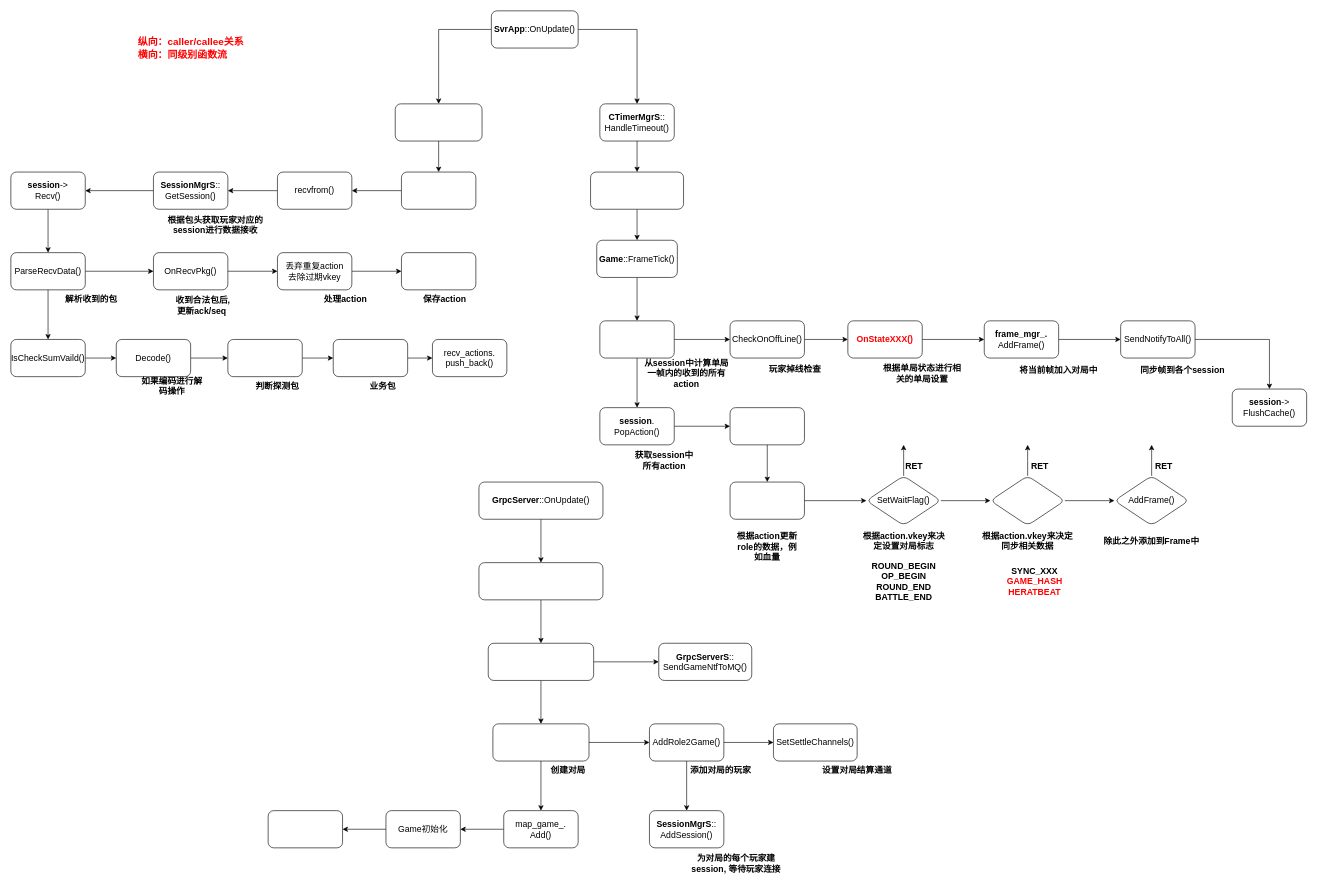
Some shapes in this 1318 by 890 pixel diagram are drawn without their labels. The shapes that lost their labels are listed below. From the top down, each one's centre as x and y in pixels, then its label:
(x=438, y=122): CUdpServS ::Recv()
(x=438, y=190): epoll_wait()
(x=637, y=190): GameMgr ::FrameTick()
(x=438, y=271): actions_cache_. push()
(x=264, y=358): RecvPing()
(x=370, y=358): Action拆分
(x=636, y=339): CalcFrame()
(x=766, y=426): AddAction()
(x=766, y=500): OnRecvAction()
(x=1027, y=500): UpdateXXX()
(x=540, y=581): GrpcServer ::CreateGame()
(x=541, y=661): HandlerS :: HandleCreateGameMs()
(x=540, y=742): GameMgrS ::AddGame()
(x=305, y=829): CTimerMgrS :: AddTimer()
